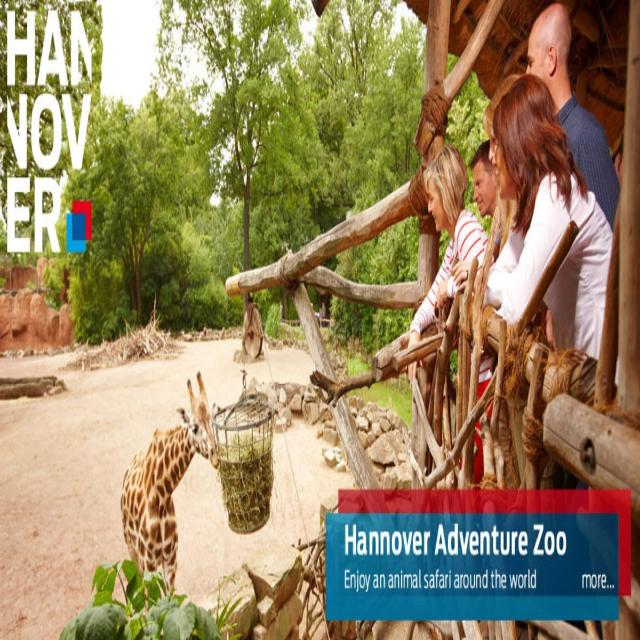body: (451, 72, 619, 492), (479, 70, 618, 393), (406, 142, 502, 499), (522, 0, 621, 233), (468, 136, 502, 222)
